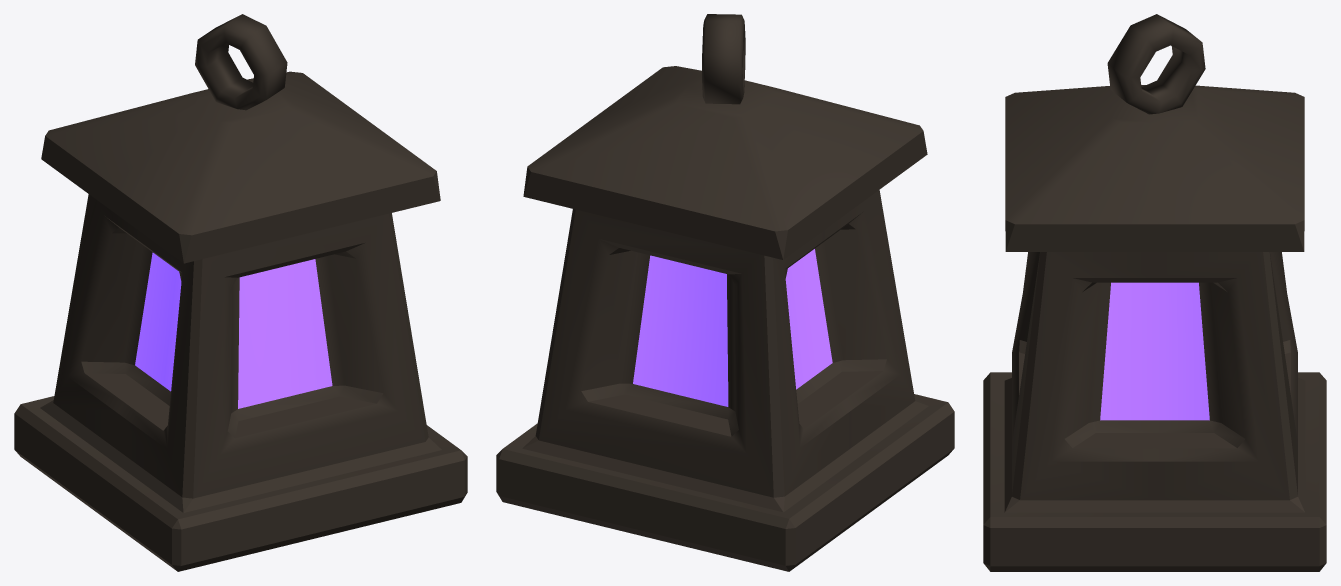
The model's file is farol_fantasma.glb.
3 views of the same model, side by side, from view 1: azimuth 30°, elevation 25°; view 2: azimuth 150°, elevation 25°; view 3: azimuth 270°, elevation 25° (orthographic). The views are drawn at different scales.
Parts seen in each view (by area): view 1: Cubo.013, Cubo.014; view 2: Cubo.013, Cubo.014; view 3: Cubo.013, Cubo.014.
Boxes of the visible parts, x1,y1,x2,y2 form: Cubo.013: (14, 71, 467, 571); Cubo.014: (195, 14, 287, 110); Cubo.013: (496, 66, 954, 571); Cubo.014: (702, 14, 745, 104); Cubo.013: (983, 85, 1326, 571); Cubo.014: (1107, 14, 1205, 114).
Bounding box in the file's own units: 0.8648 × 1.28 × 0.8319.
